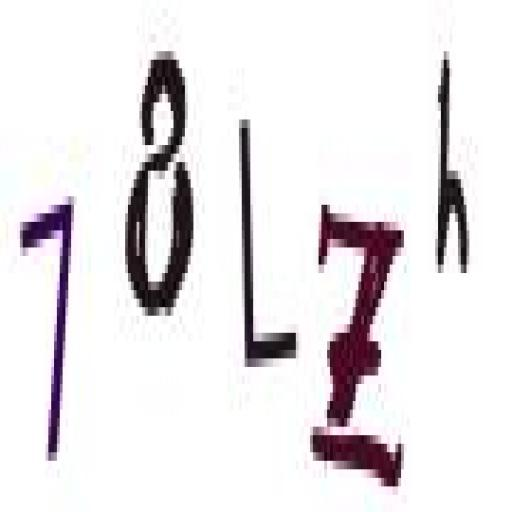7: (14, 178, 90, 488)
8: (122, 33, 196, 333)
L: (236, 102, 305, 391)
Z: (314, 181, 418, 507)
h: (430, 40, 472, 295)
